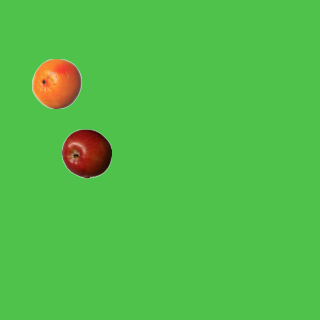Apple Braeburn: (61, 128, 111, 178)
Grapefruit Pink: (31, 58, 81, 108)
